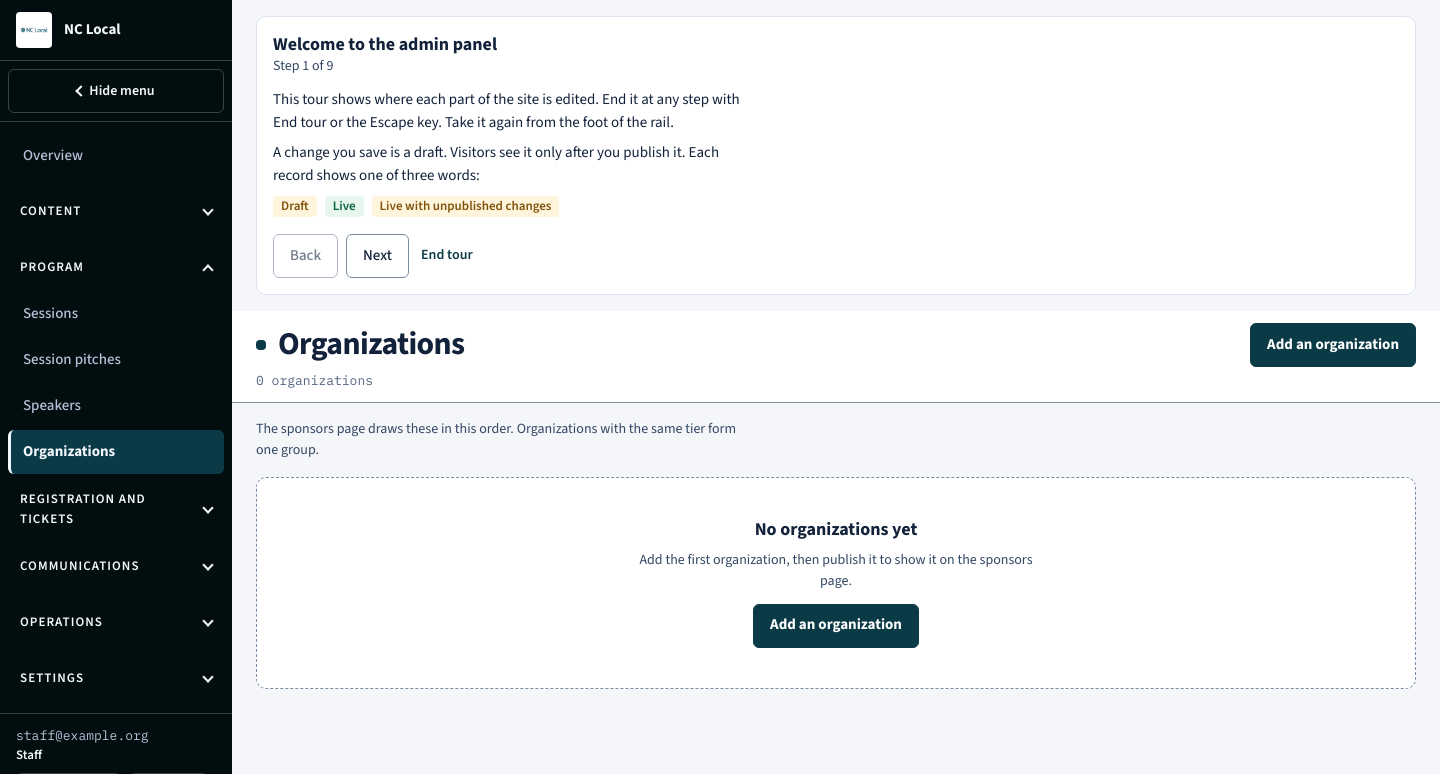
Test: admin route gating › opens the organizations list and editor for a staff admin: organizations are content
Check: the heading "Organizations" is shown, box [278,326,464,364]
Click the 1st link "Add an organization" at (1333, 345), box [1250,323,1416,367]
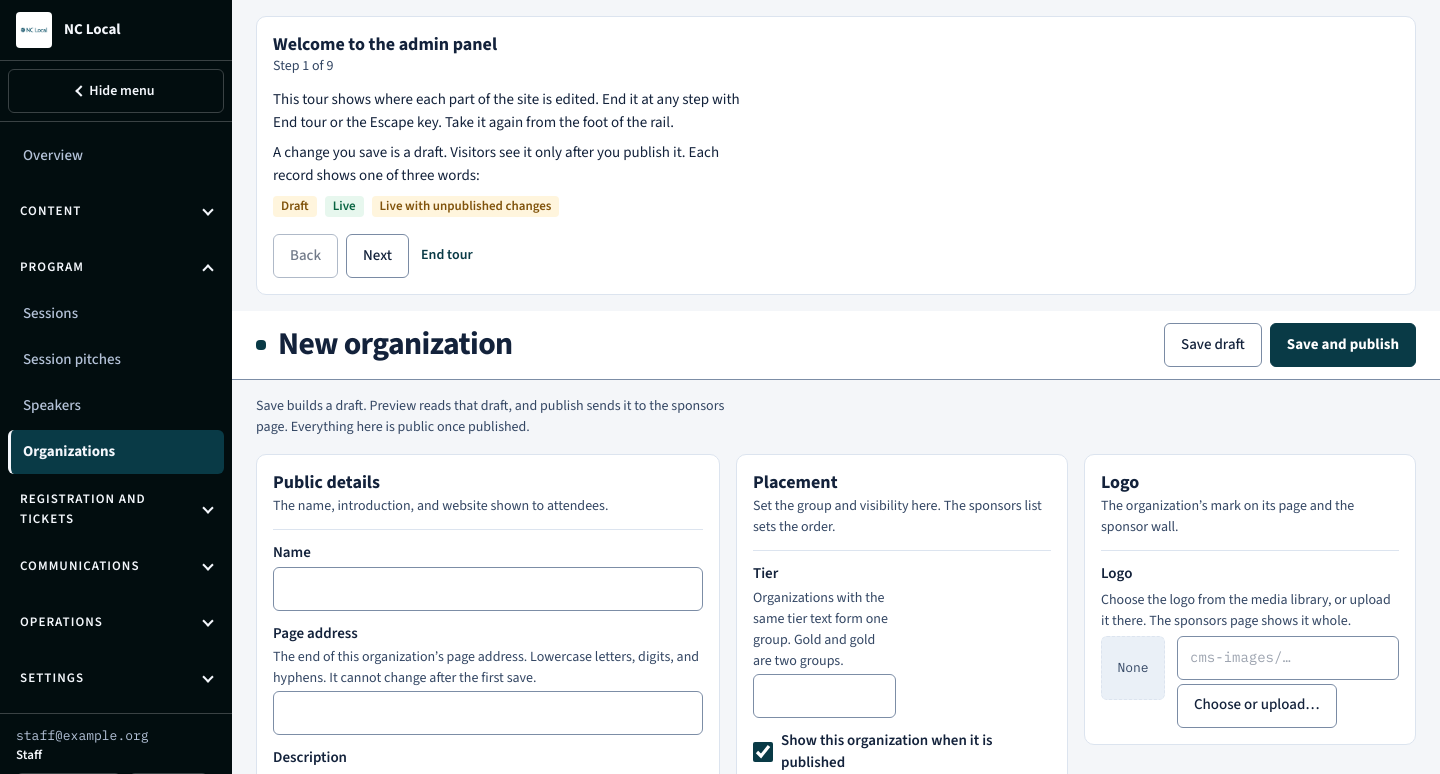
Check: the heading "New organization" is shown, box [278,326,513,364]
